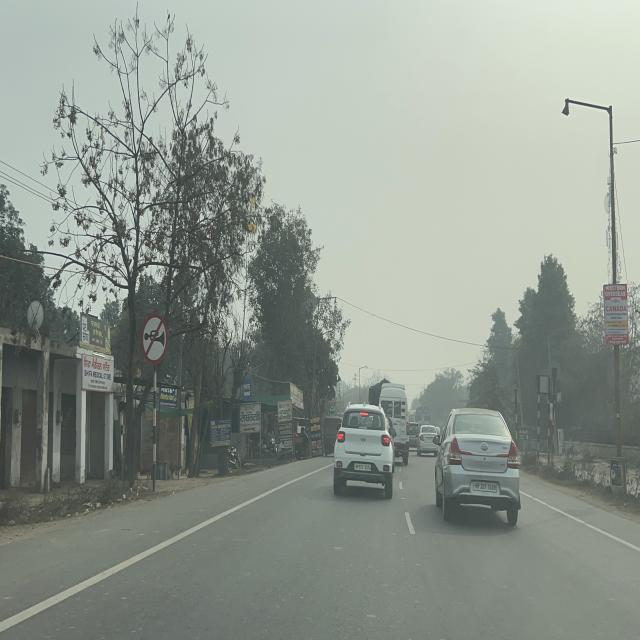HORN_PROHIBITED: (140, 310, 170, 360)
INFORMATION: (242, 379, 251, 401)
